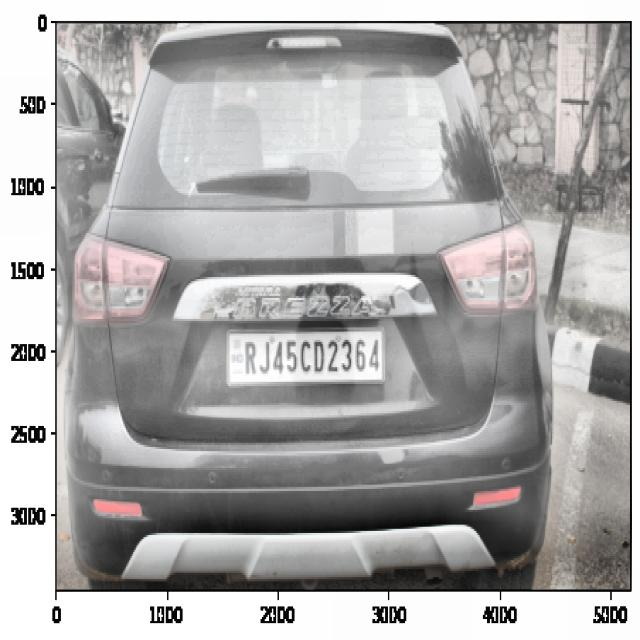license_plate: (237, 327, 383, 388)
